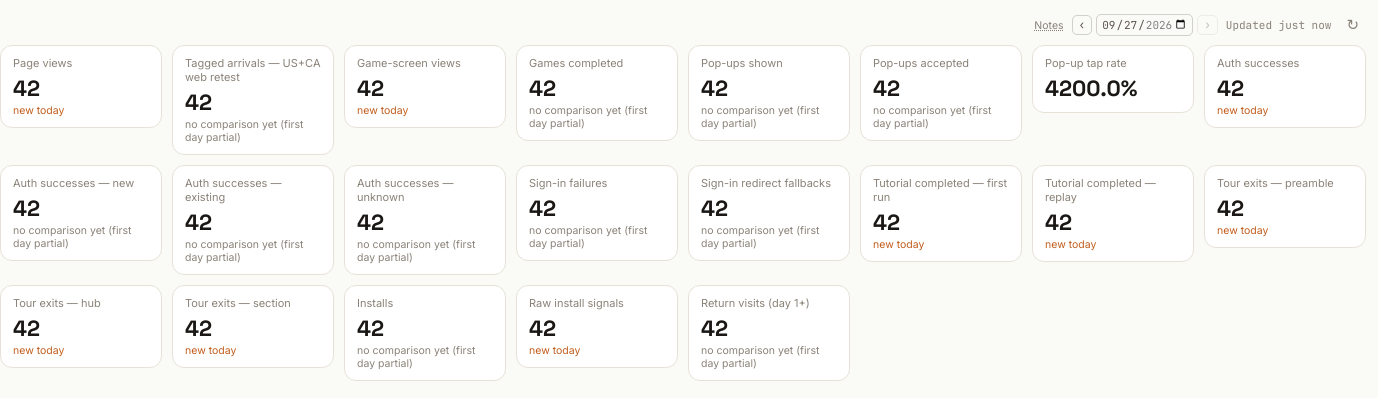
Test: MetricCard — freshness and errors › a failed reload: values read "unavailable", "Updated" gives way to an error line, and Retry recovers
Check: the text with class "mc-updated" reads "Updated just now", box [1226,18,1331,32]
Click the button with class "mc-reload" at (1353, 24), box [1339,12,1366,37]
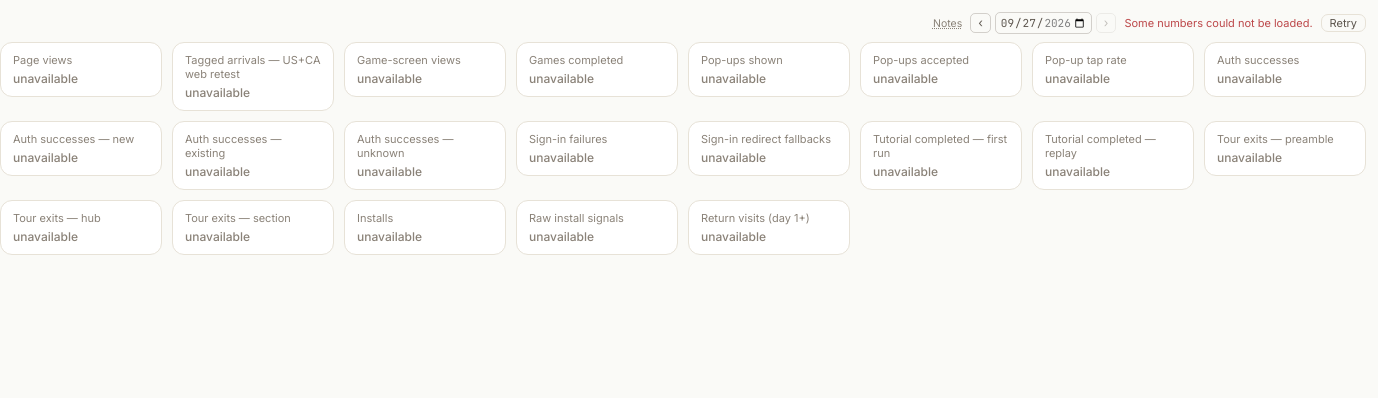
Check: the text with class "mc-error" reads "Some numbers could not be loaded.", box [1124,16,1312,30]
Check: the text with class "mi-tile-num" below "Page views" reads "unavailable", box [13,71,78,86]
Click the button with class "mc-retry" at (1343, 23), box [1321,14,1366,32]
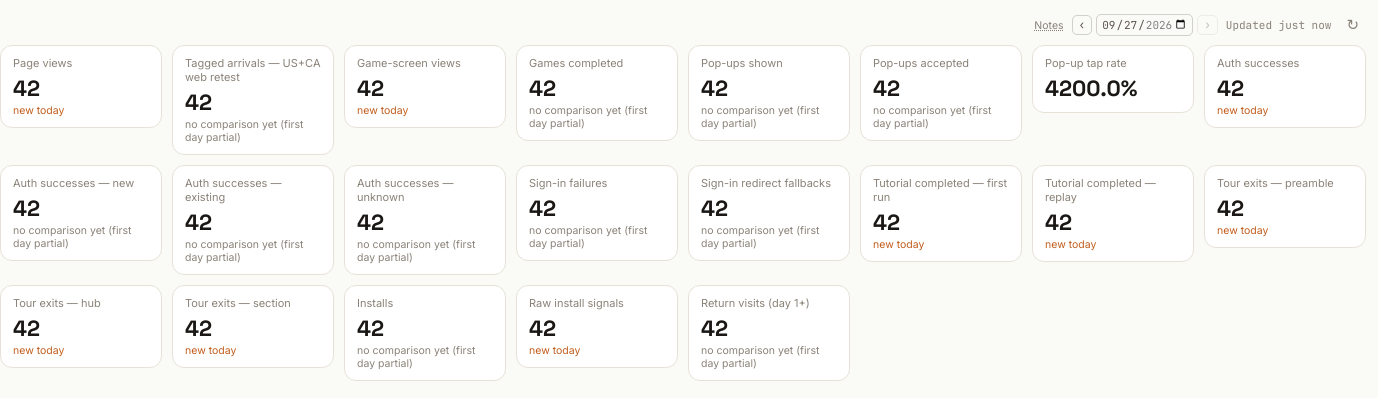
Check: the text with class "mi-tile-num" below "Page views" reads "42", box [13,74,40,102]
Check: the text with class "mc-updated" reads "Updated just now", box [1226,18,1331,32]
